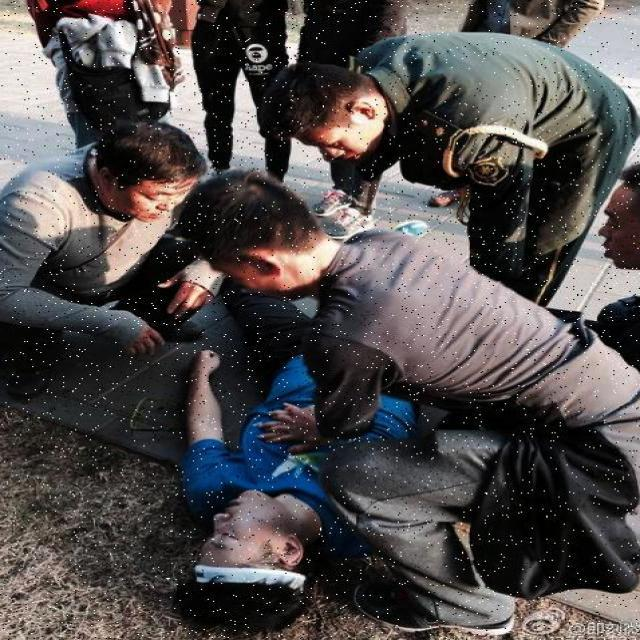fall: (143, 266, 424, 627)
